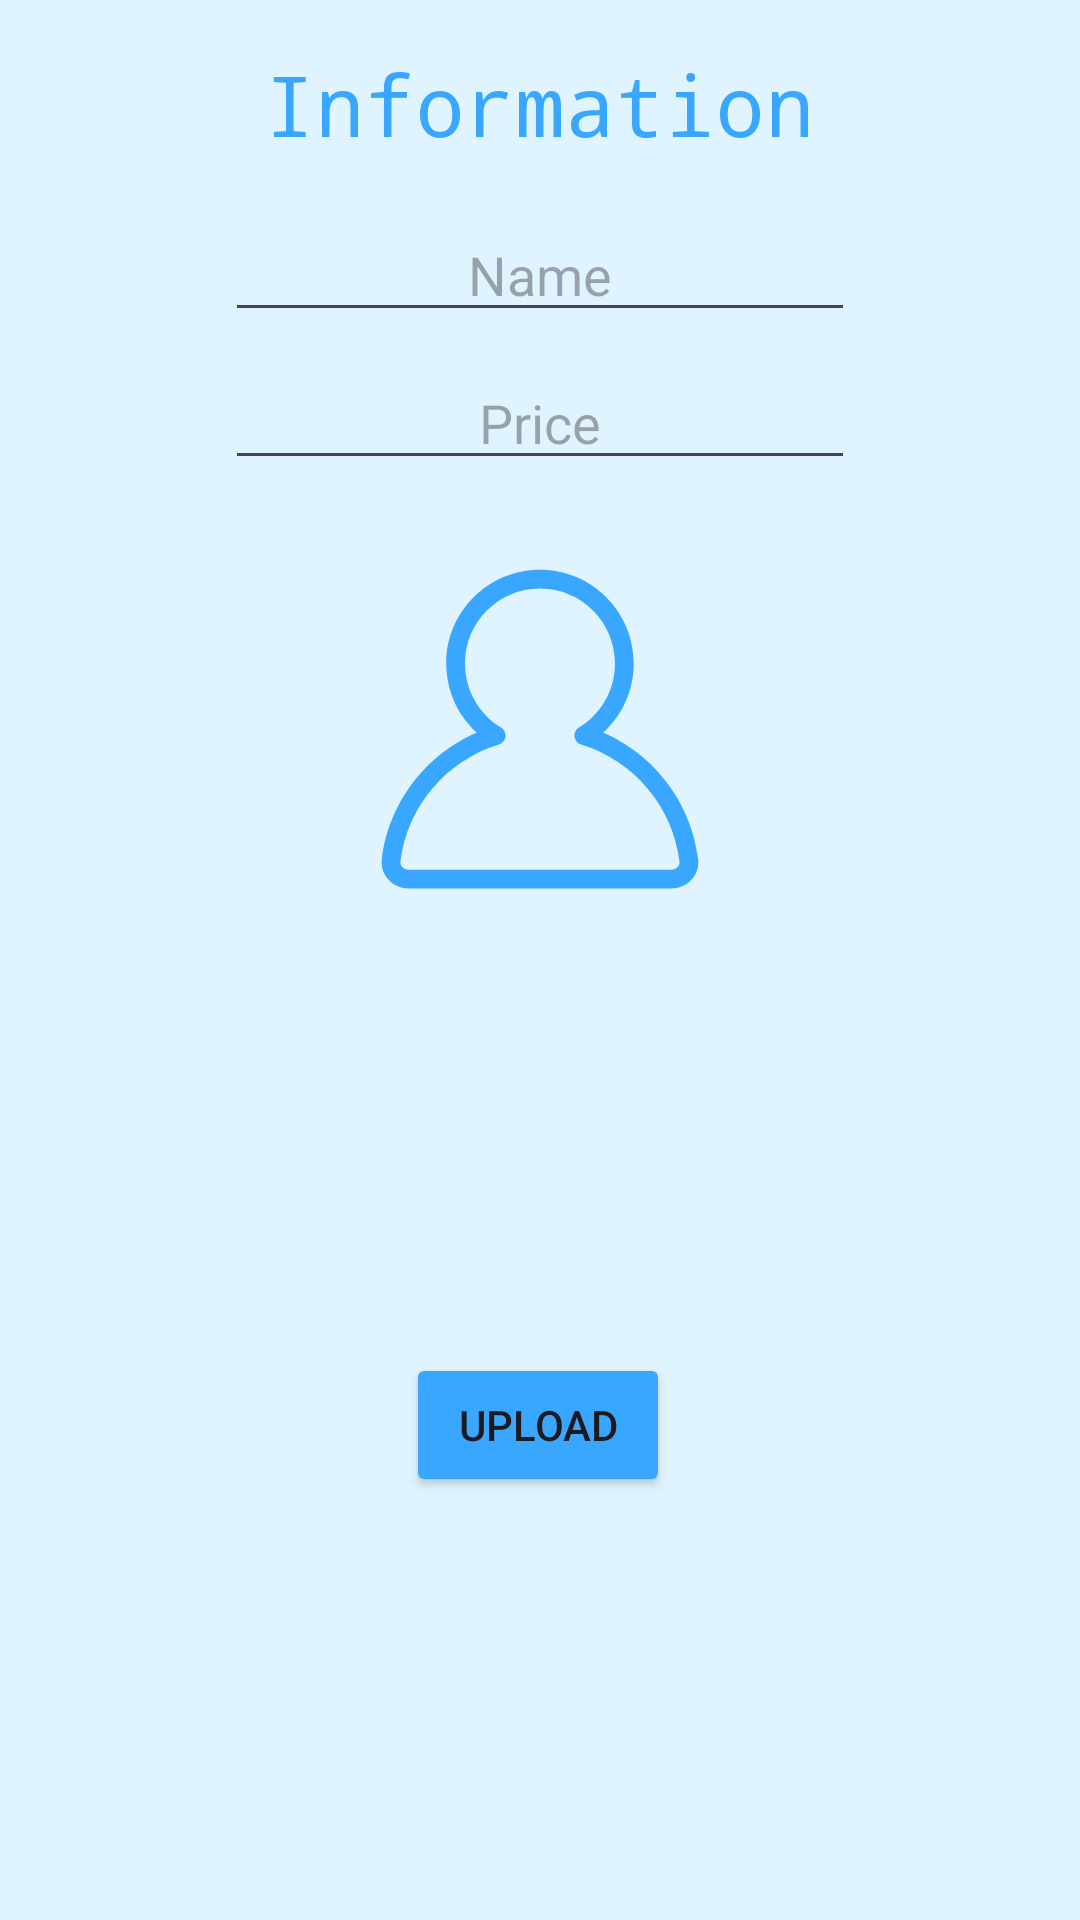

Locate icon controls on the screen. Image size 1080w x 1920h, boxes as rect(x1, y1, x2, y2).
profile: rect(381, 569, 699, 889)
